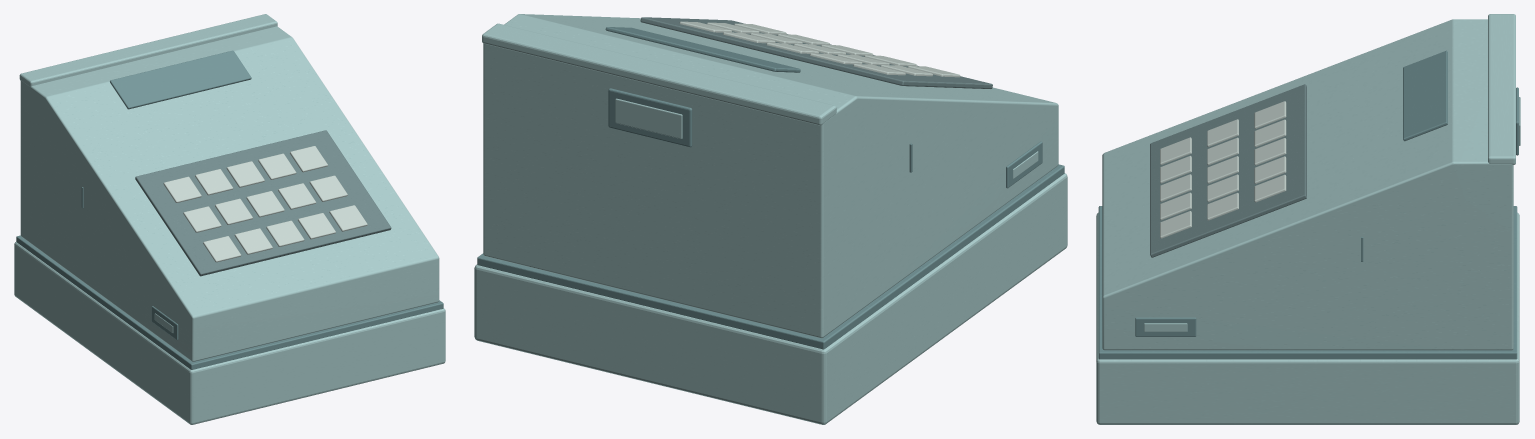
File: Register_FUR05_REG01_R1_candidate.fbx
3 views of the same model, side by side, from view 1: azimuth 30°, elevation 25°; view 2: azimuth 150°, elevation 25°; view 3: azimuth 270°, elevation 25° (orthographic). The views are drawn at different scales.
Visible parts, largest first — view 1: Register; view 2: Register; view 3: Register.
Part boxes in pixels (left/top/right/bottom): Register: left=14, top=14, right=445, bottom=424; Register: left=474, top=14, right=1067, bottom=424; Register: left=1096, top=14, right=1520, bottom=424.
Size of the model in its own units: 0.3 by 0.25 by 0.3608.
